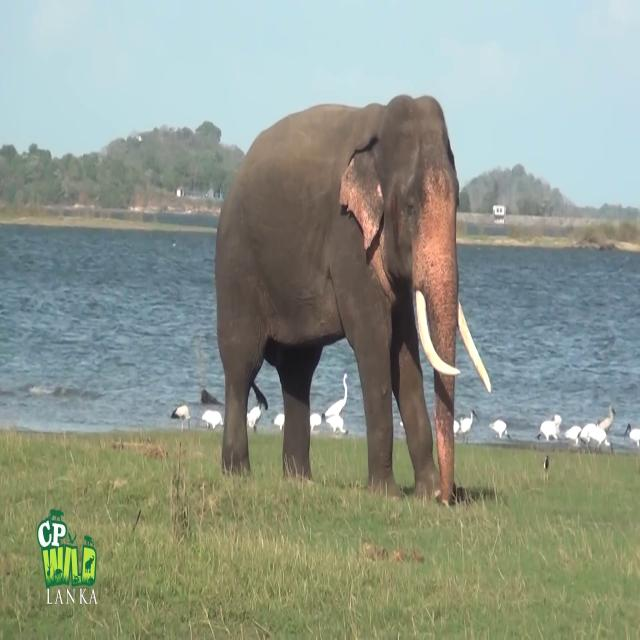Elephant: (214, 93, 492, 506)
